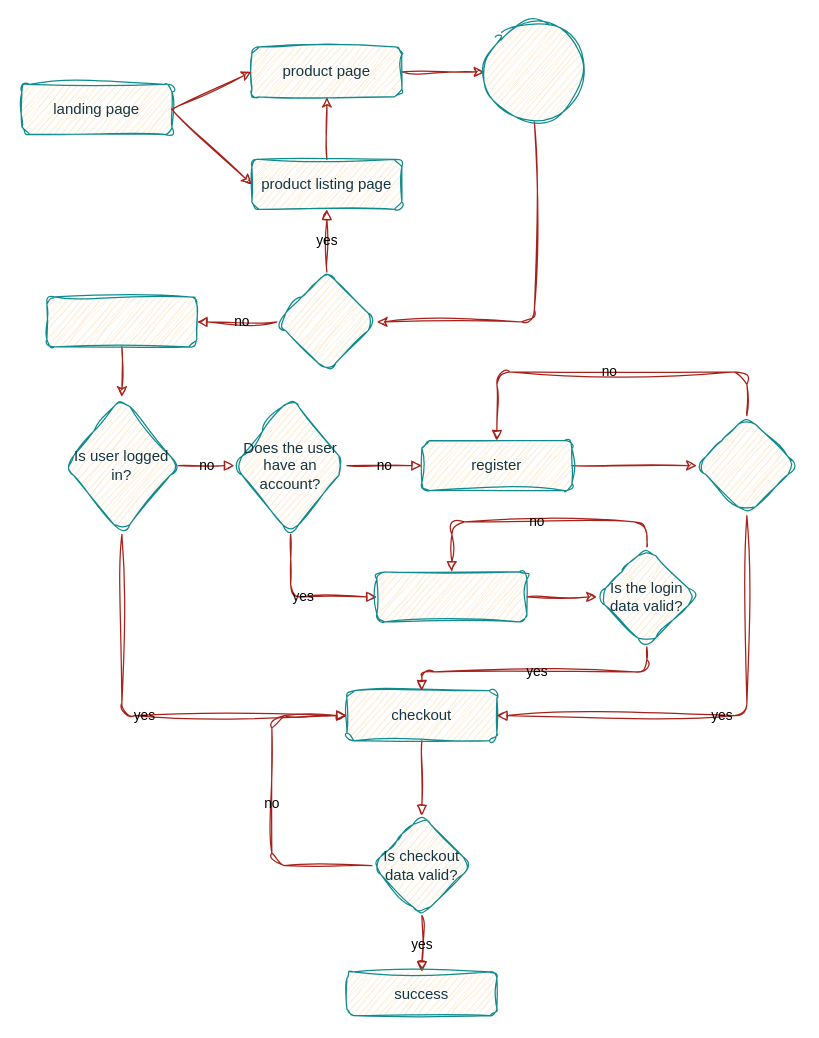
This 819x1038 diagram has some shape labels left out. Each missing label, with the centre of its shape:
Add to cart: (533,71)
cart: (121,321)
Is the user data valid?: (746,465)
Shop more?: (326,321)
Sign in: (451,596)
